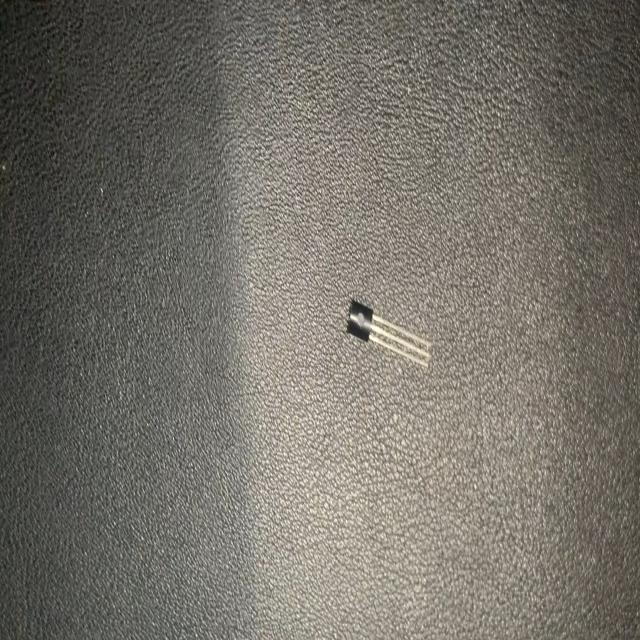BJT: (343, 292, 435, 371)
